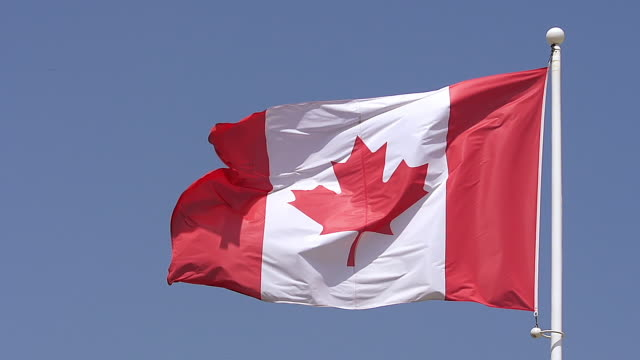Canada flag: (148, 68, 549, 312)
